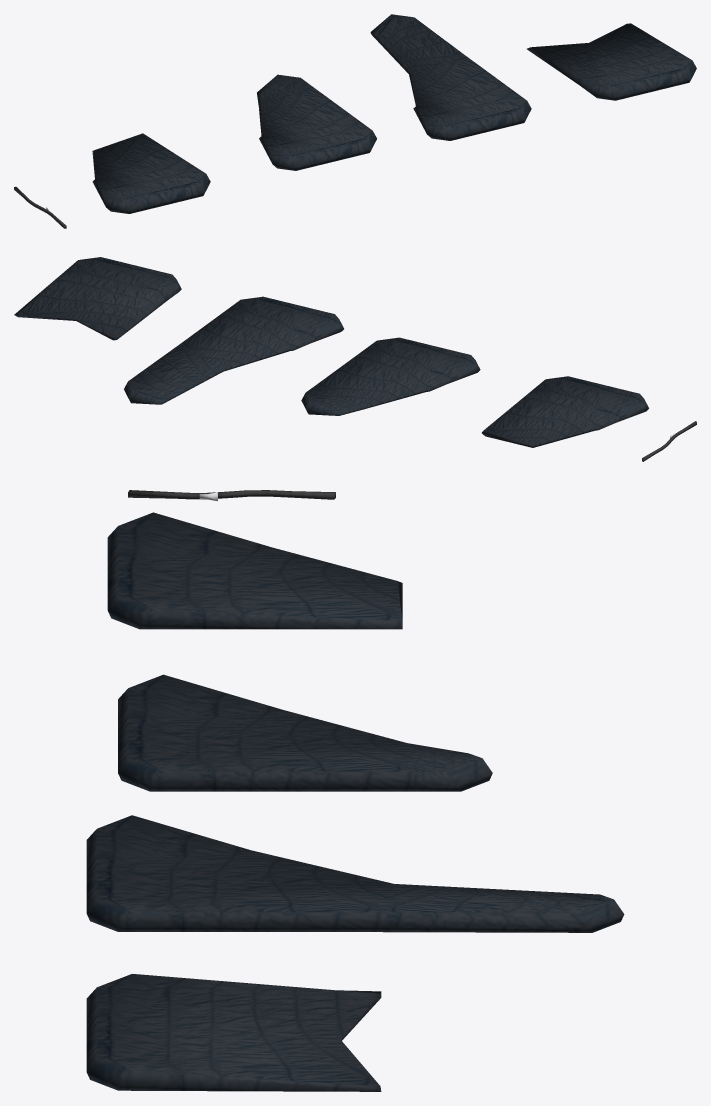
Rendered from DamagedSleepingbags_Black.obj.
The picture shows the model from 3 angles, top to bottom: view 1: azimuth 30°, elevation 25°; view 2: azimuth 150°, elevation 25°; view 3: azimuth 270°, elevation 25°; orthographic projection. The views are drawn at different scales.
Parts seen in each view (by area): view 1: Cube.013_Material.014, Cube.002_Material.014, Cube.003_Material.014, Cube.011_Material.014; view 2: Cube.013_Material.014, Cube.002_Material.014, Cube.003_Material.014, Cube.011_Material.014; view 3: Cube.013_Material.014, Cube.003_Material.014, Cube.002_Material.014, Cube.011_Material.014, Plane.001_Material.014.
Boxes of the visible parts, x1,y1,x2,y2 form: Cube.013_Material.014: (370,14,531,140); Cube.002_Material.014: (257,74,376,170); Cube.003_Material.014: (527,23,696,100); Cube.011_Material.014: (92,133,210,213); Cube.013_Material.014: (124,296,343,404); Cube.002_Material.014: (301,337,480,415); Cube.003_Material.014: (14,257,181,340); Cube.011_Material.014: (482,376,648,447); Cube.013_Material.014: (86,815,624,932); Cube.003_Material.014: (86,974,381,1091); Cube.002_Material.014: (118,674,492,791); Cube.011_Material.014: (107,512,402,629); Plane.001_Material.014: (128,490,335,499).
Size of the model in its own units: 4.71 by 0.1058 by 1.77.
